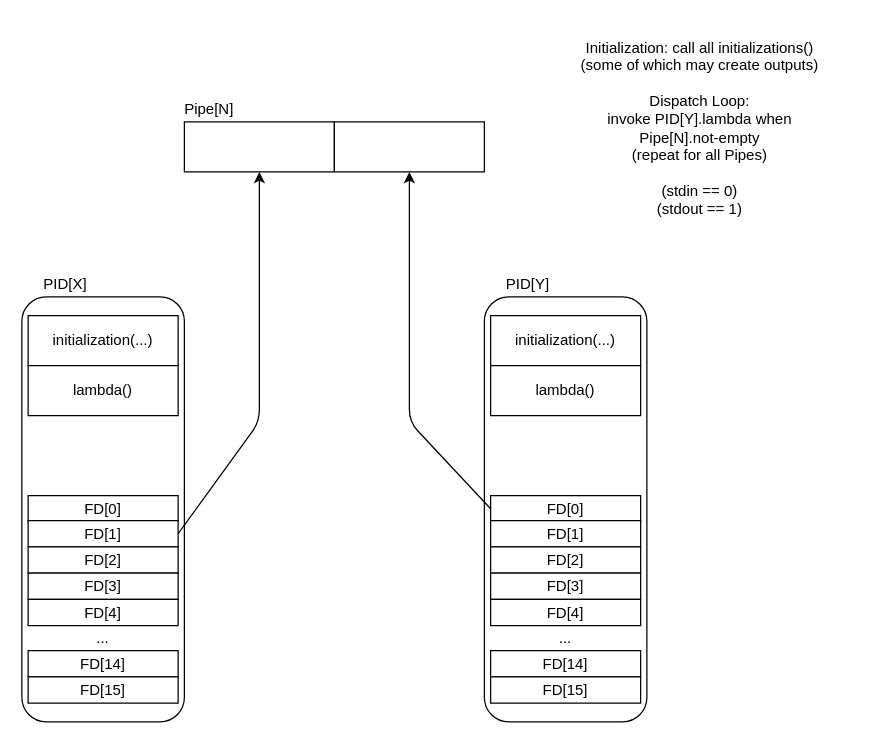
Some shapes in this 894 by 744 pixel diagram are drawn without their labels. The shapes that lost their labels are listed below. From the top down, each one's centre as x and y in pixels, then its label:
At point 258,146: "out".
At point 408,146: "in".
